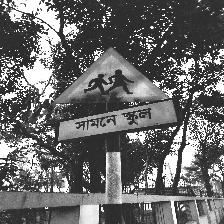School-in-front: (53, 47, 179, 143)
